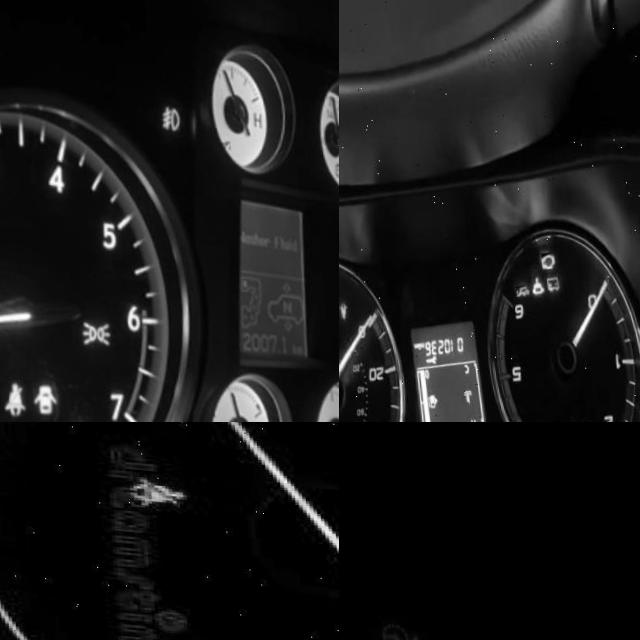Doors: (24, 375, 54, 420)
Seat Belt: (128, 467, 183, 508)
